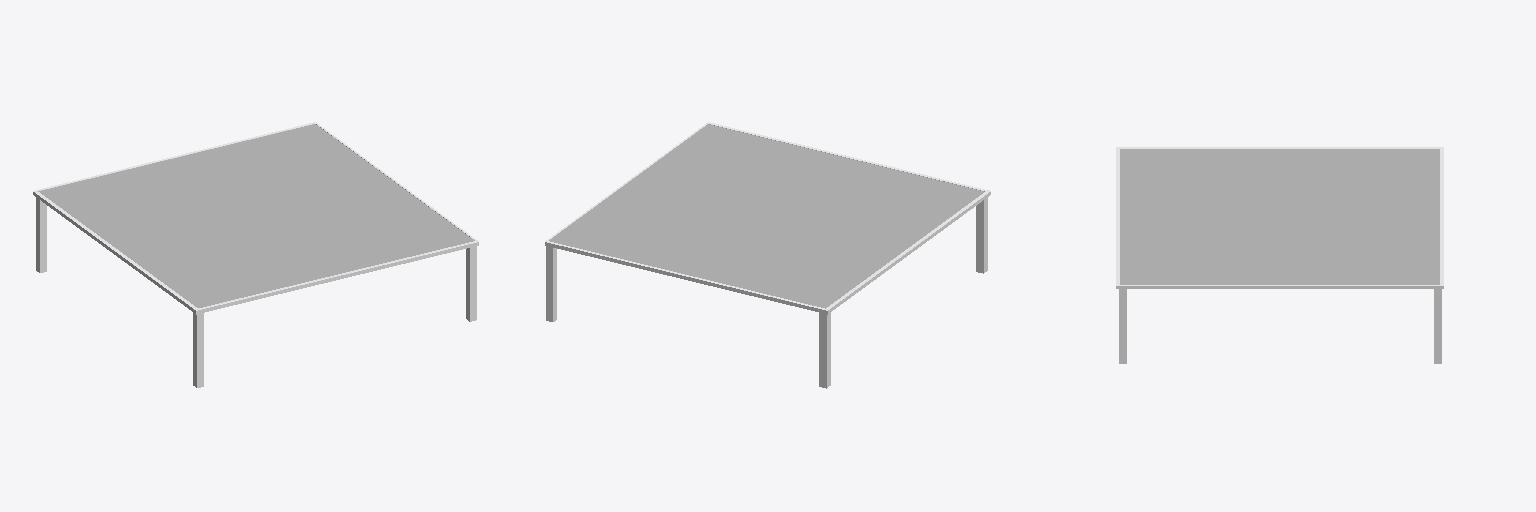
The model's file is Table.obj.
3 views of the same model, side by side, from view 1: azimuth 30°, elevation 25°; view 2: azimuth 150°, elevation 25°; view 3: azimuth 270°, elevation 25° (orthographic).
Visible parts, largest first — view 1: Table; view 2: Table; view 3: Table.
Boxes of the visible parts, x1=… form: Table: x1=33, y1=122, x2=478, y2=387; Table: x1=545, y1=122, x2=990, y2=388; Table: x1=1116, y1=147, x2=1443, y2=363.
Bounding box in the file's own units: 1.57 × 0.4206 × 1.58.